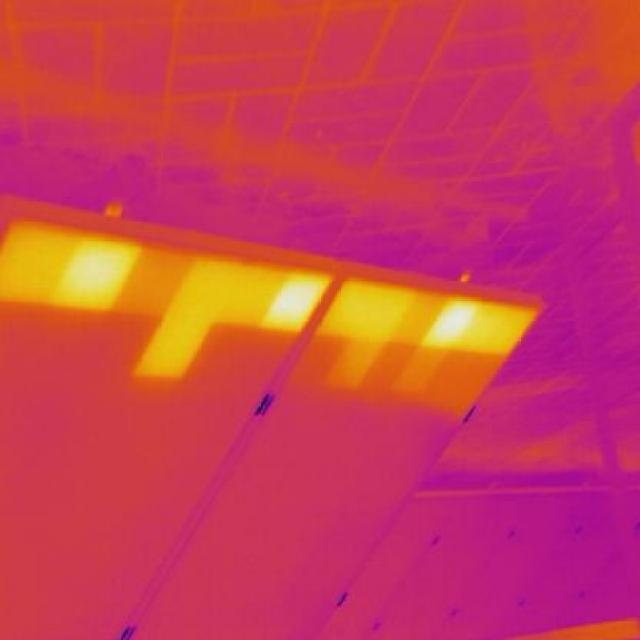hotspot: (53, 235, 138, 314), (172, 262, 258, 321), (251, 275, 334, 331), (134, 326, 206, 379), (464, 312, 536, 354), (423, 299, 474, 352)
